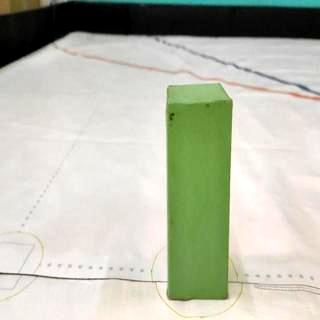greenbox: (165, 84, 232, 302)
